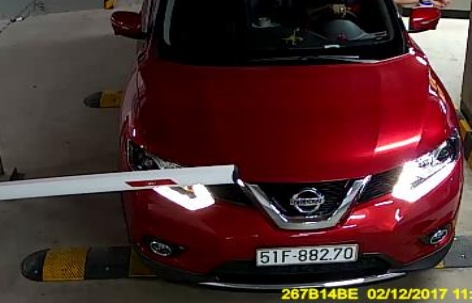plate: (252, 239, 362, 269)
